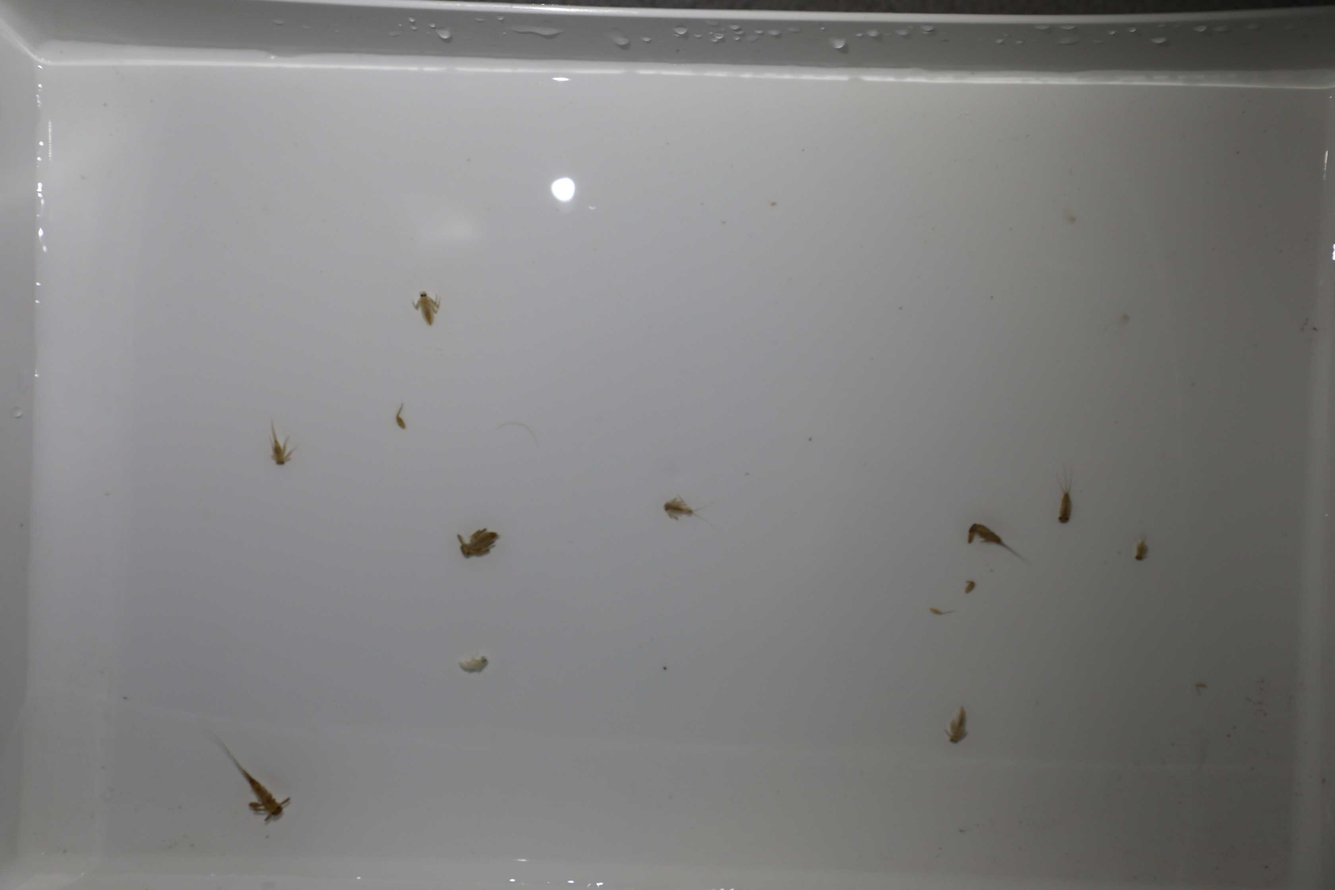Mayfly: (198, 723, 291, 827), (966, 515, 1029, 566), (449, 522, 504, 563), (946, 700, 978, 751), (263, 421, 296, 469), (1052, 467, 1077, 528), (406, 289, 443, 325), (657, 494, 698, 522), (1134, 525, 1162, 565), (451, 652, 490, 680)
